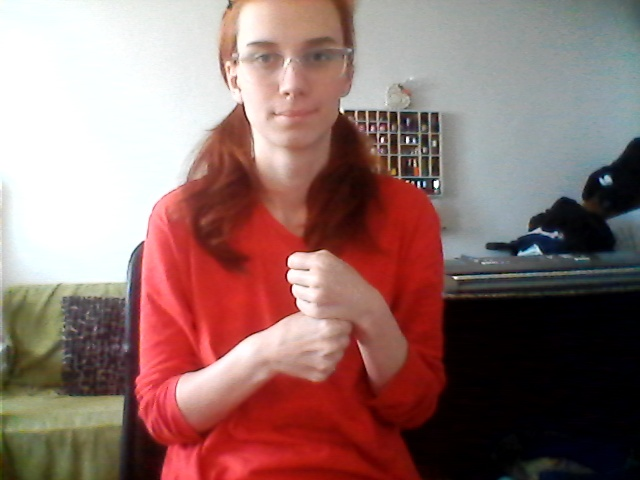g: (269, 246, 377, 393)
